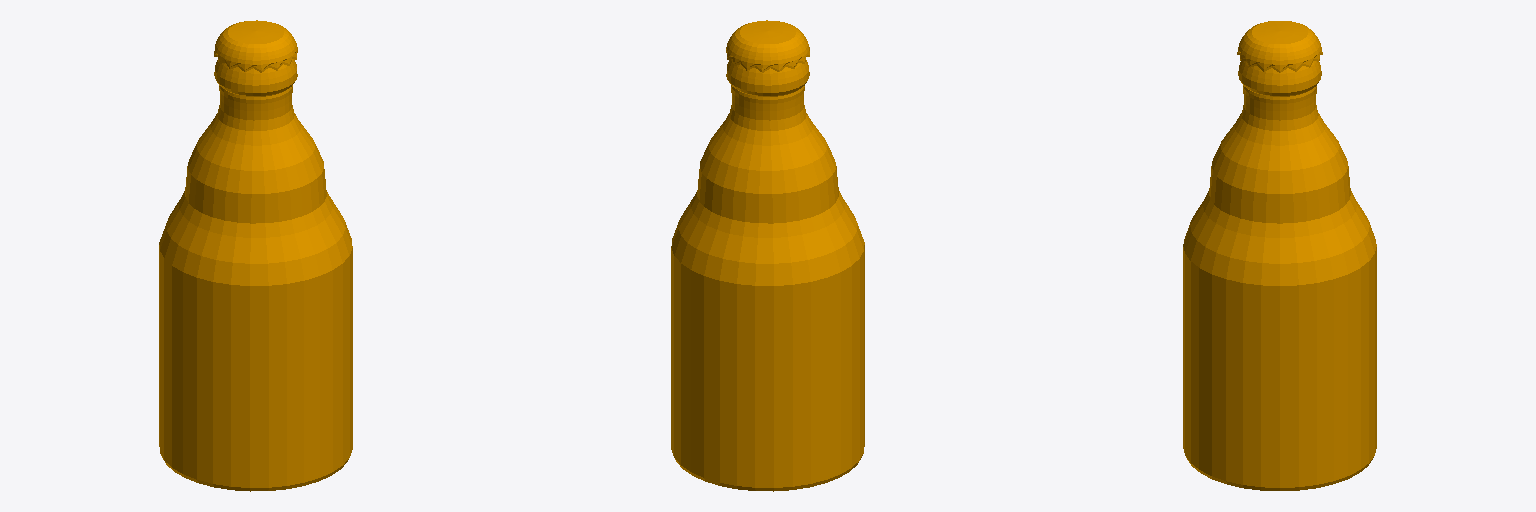
URDF robot description (mesh_object):
<?xml version="1.0" ?>
<robot name="mesh_object">
  <link name="base">
    <visual>
      <geometry>
        <mesh filename="cider_4.obj" scale="1 1 1"/>
      </geometry>
    </visual>
    <collision>
      <geometry>
        <mesh filename="cider_4.obj" scale="1 1 1"/>
      </geometry>
    </collision>
    <inertial>
      <origin xyz="-0.000000 0.000000 0.065000" rpy="0 0 0"/>
      <mass value="0.5"/>
      <inertia ixx="0.01" iyy="0.01" izz="0.01" ixy="0" ixz="0" iyz="0"/>
    </inertial>
  </link>
</robot>

--- What the picture shows (computed from the rendered views, not written in the file) ---
The picture shows the robot from 3 angles, left to right: view 1: azimuth 30°, elevation 25°; view 2: azimuth 150°, elevation 25°; view 3: azimuth 270°, elevation 25°; orthographic projection.
Model mesh_object with 1 links and 0 joints (none), rooted at base, posed every joint at zero.
Links seen in each view (by area): view 1: base; view 2: base; view 3: base.
Link boxes in pixels (<box>): base: <box>159,20,352,491</box>; base: <box>671,20,864,491</box>; base: <box>1183,21,1376,490</box>.
Bounding box of the posed robot: 0.0541 × 0.0541 × 0.13 m (x, y, z).
1 mesh visuals loaded from 1 distinct referenced files (1 OBJ).
